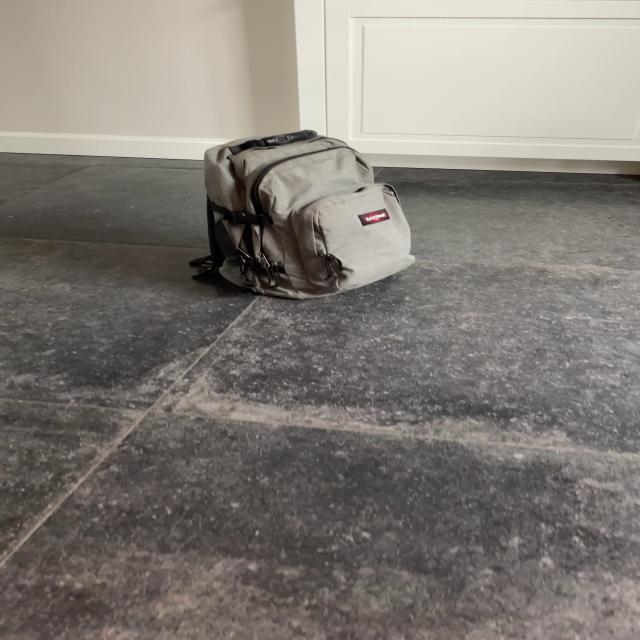backpack: (190, 123, 423, 307)
